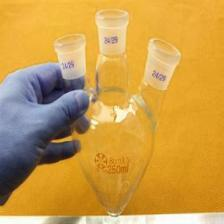Pear shaped flask: (31, 5, 198, 213)
